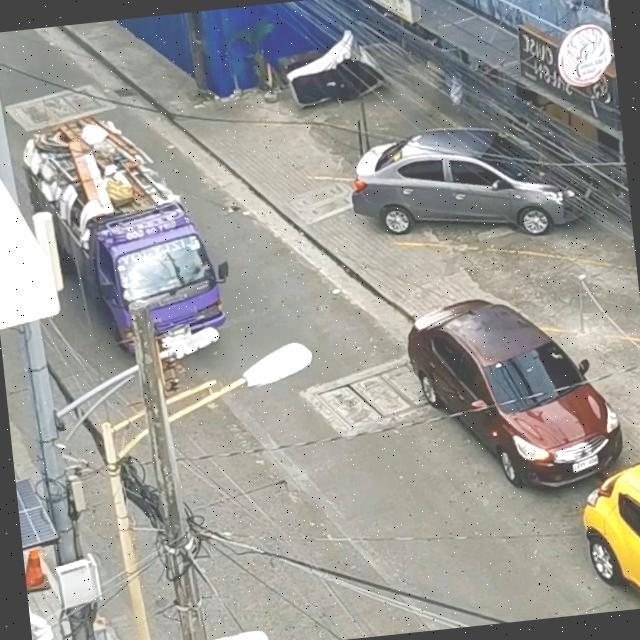Truck: (0, 67, 298, 416)
